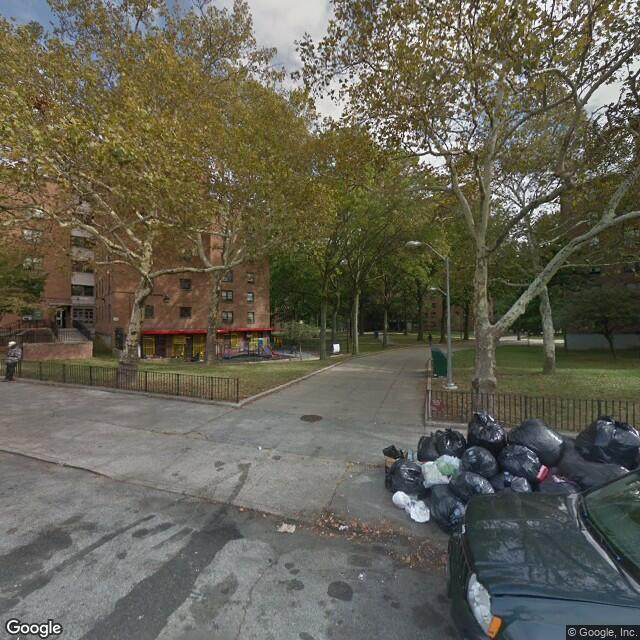litter: (275, 520, 297, 535), (337, 524, 351, 531), (254, 444, 264, 451), (236, 503, 244, 511)
